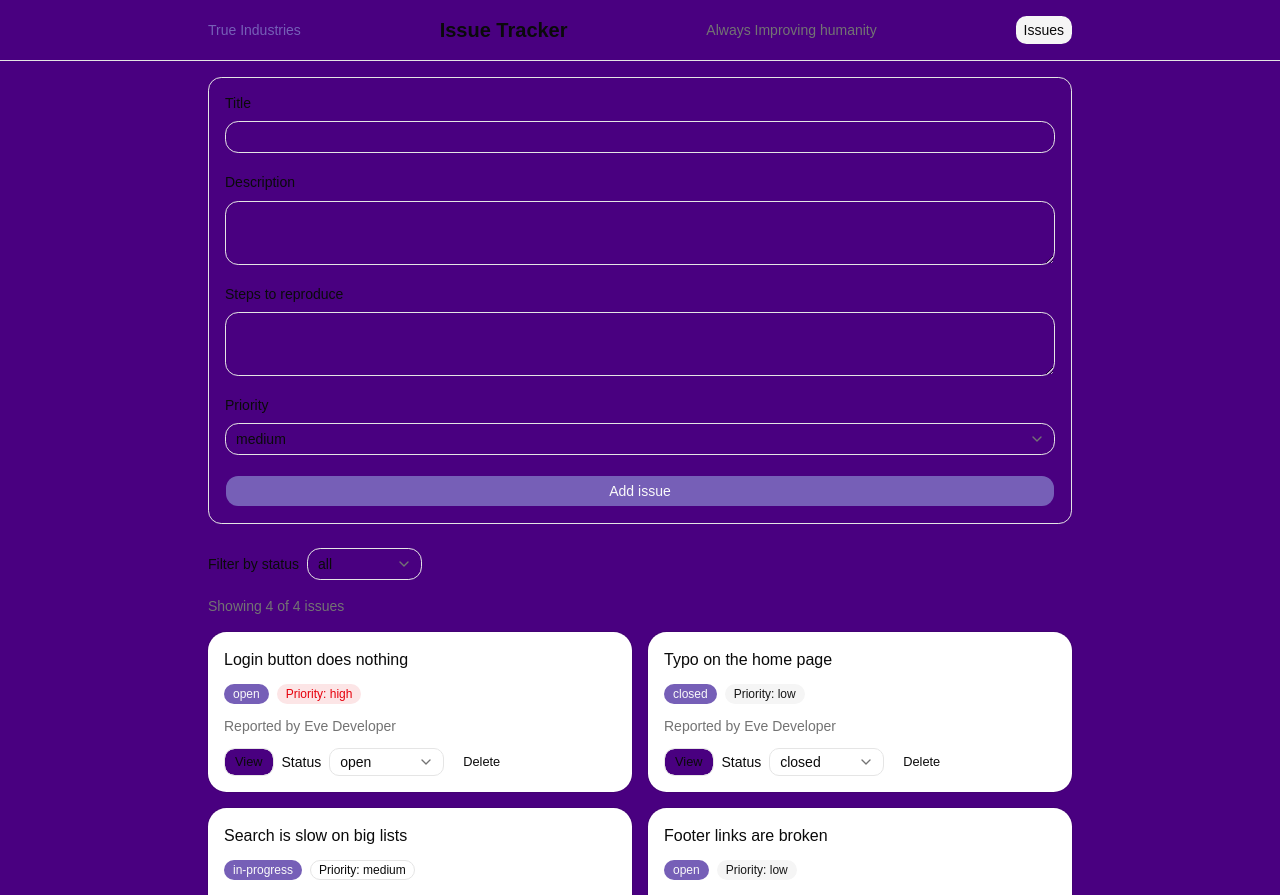
App routes › goes to the edit screen for an issue when View is clicked
Expected: the text "Showing 4 of 4 issues" is shown, [208,598,344,614]
Click the button "View" below "closed" at (689,762), box [664,748,714,776]
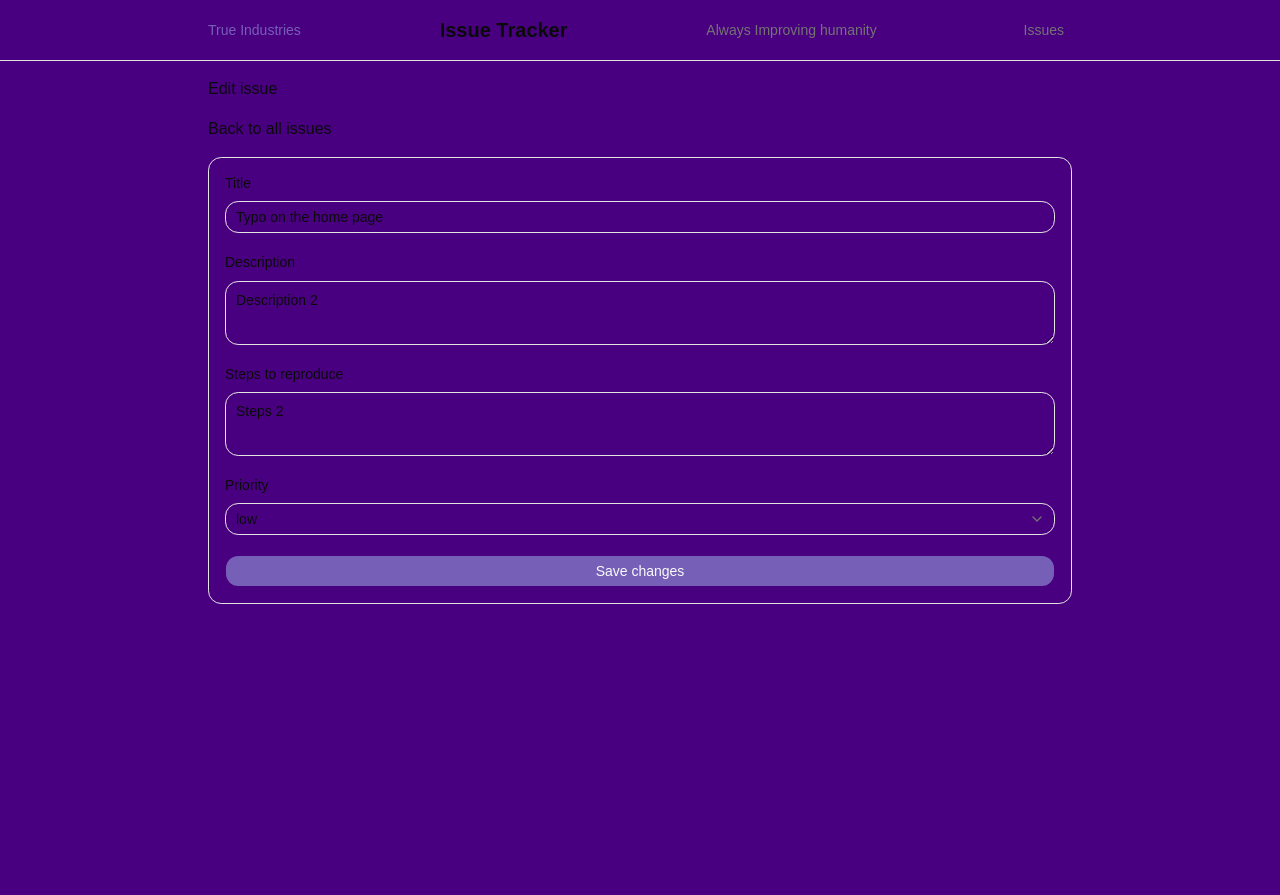
Now the heading "Edit issue" is shown, box [208,80,277,97]
Now the field labelled "Title" holds "Typo on the home page", box [225,201,1055,233]
